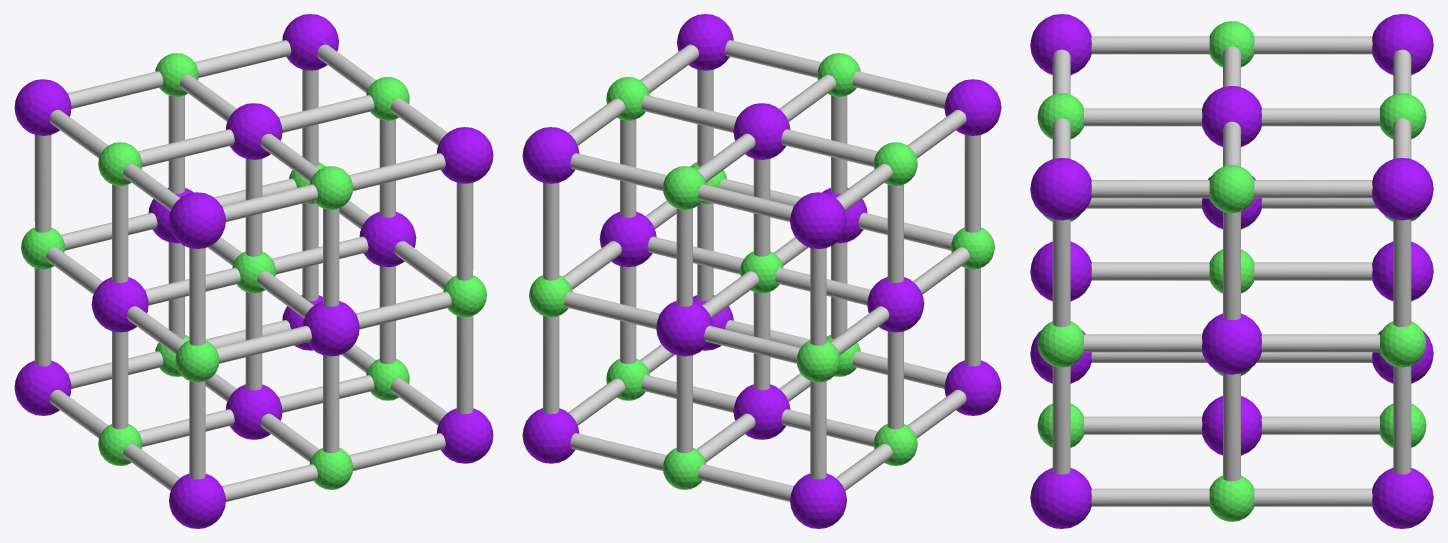
File: s007-naclc.glb
3 views of the same model, side by side, from view 1: azimuth 30°, elevation 25°; view 2: azimuth 150°, elevation 25°; view 3: azimuth 270°, elevation 25° (orthographic). The views are drawn at different scales.
Parts seen in each view (by area): view 1: entity_13; view 2: entity_13; view 3: entity_13.
Boxes of the visible parts, box(x1,y1,x2,y2) form: entity_13: box(14, 14, 493, 528); entity_13: box(522, 14, 1001, 528); entity_13: box(1030, 14, 1433, 528).
Size of the model in its own units: 0.5 by 0.5 by 0.5.
